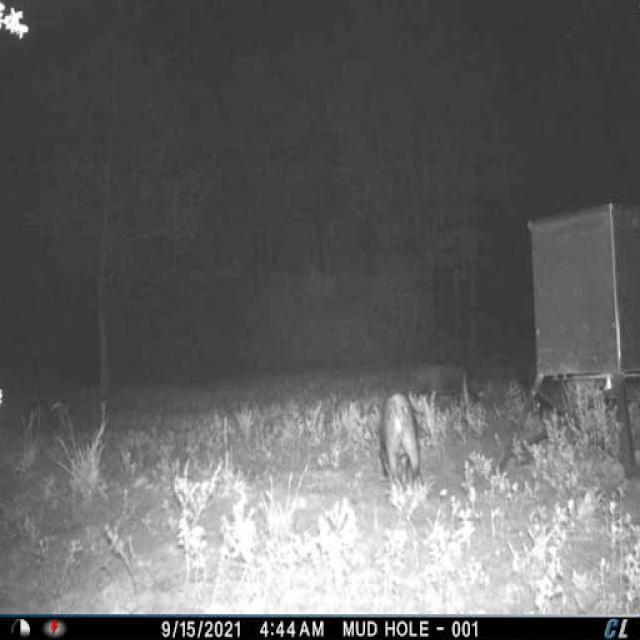wild boar: (398, 347, 488, 426), (372, 386, 427, 492)
